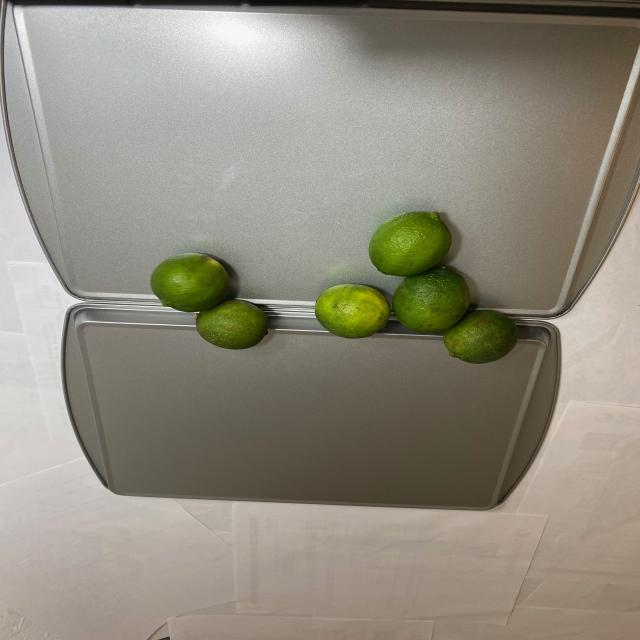lemon: (311, 206, 525, 365), (140, 243, 284, 354)
